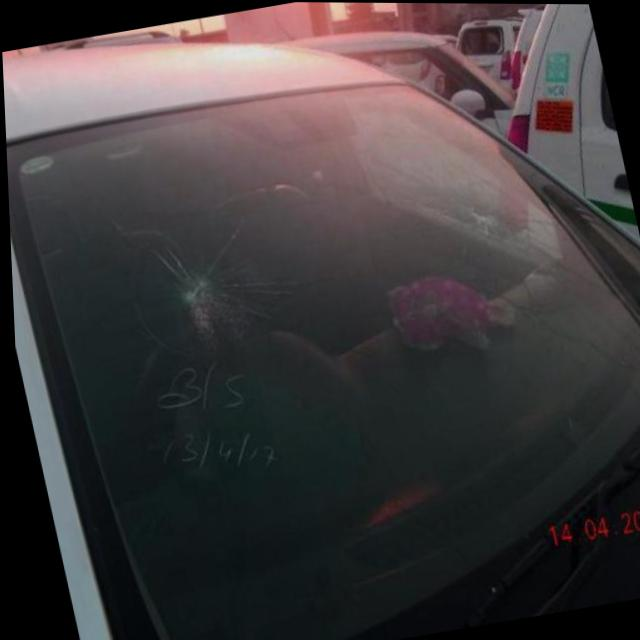Car-Damage: (151, 255, 234, 327), (452, 182, 513, 241)
